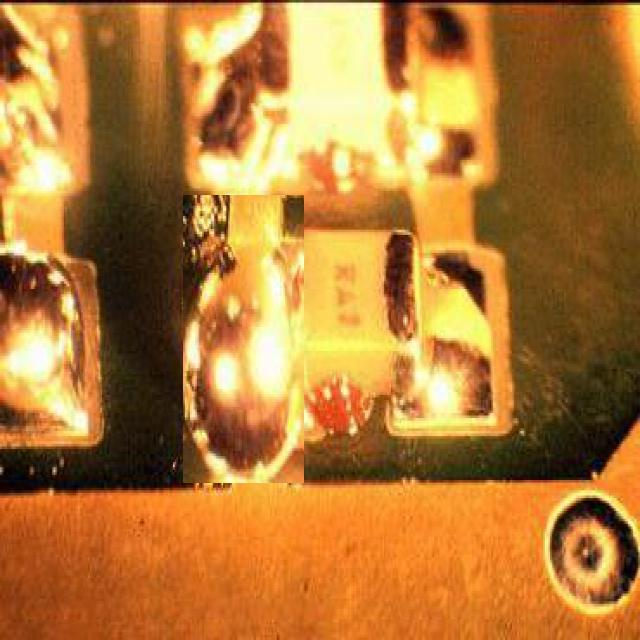redundant: (183, 196, 303, 482)
